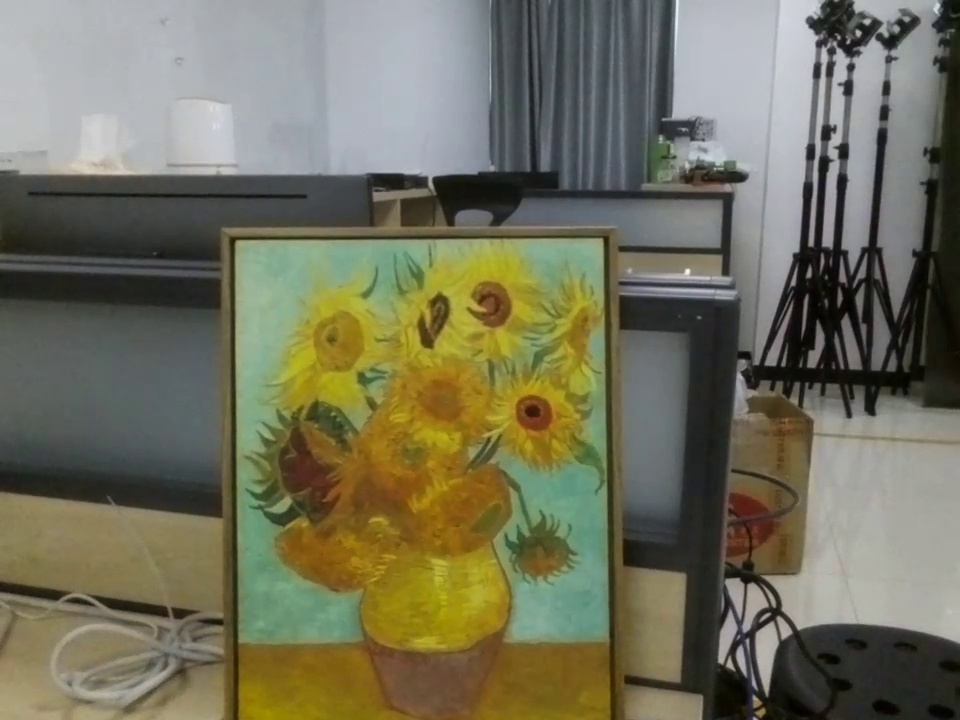painting: (217, 217, 634, 719)
